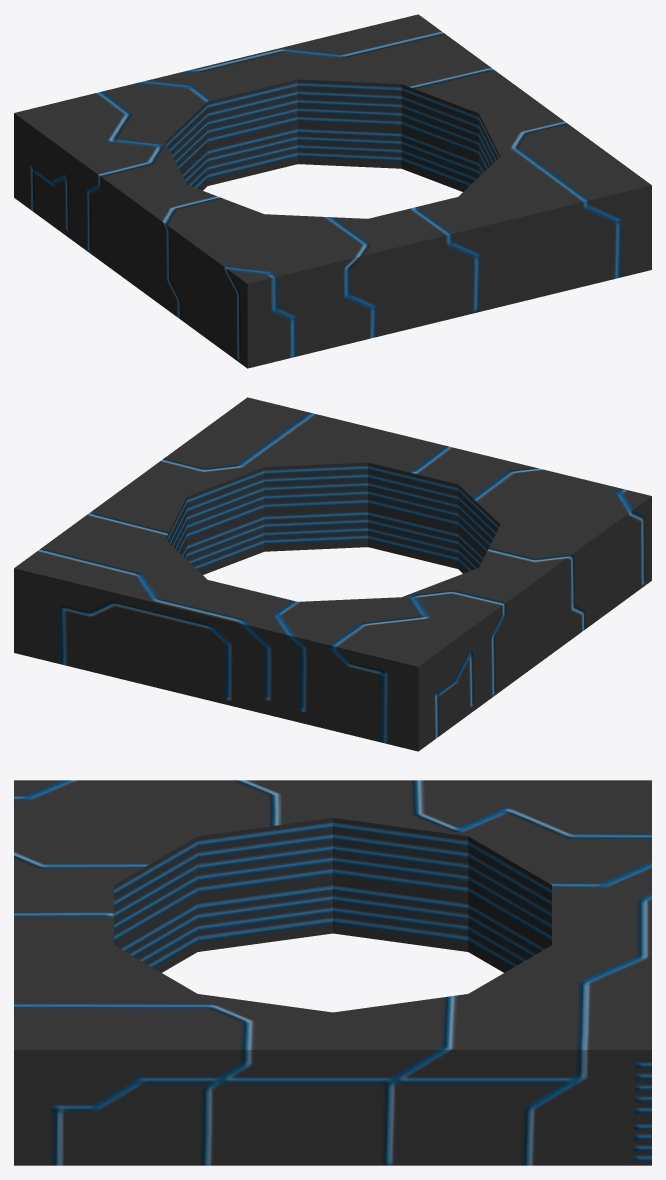
File: Fan Base.fbx
3 views of the same model, one above another, from view 1: azimuth 30°, elevation 25°; view 2: azimuth 150°, elevation 25°; view 3: azimuth 270°, elevation 25° (orthographic). The views are drawn at different scales.
Parts seen in each view (by area): view 1: FanBase2; view 2: FanBase2; view 3: FanBase2.
Boxes of the visible parts, x1,y1,x2,y2 form: FanBase2: (14,14,651,368); FanBase2: (14,397,651,751); FanBase2: (14,780,651,1165).
Bounding box in the file's own units: 7.98 × 1.6 × 7.98.
